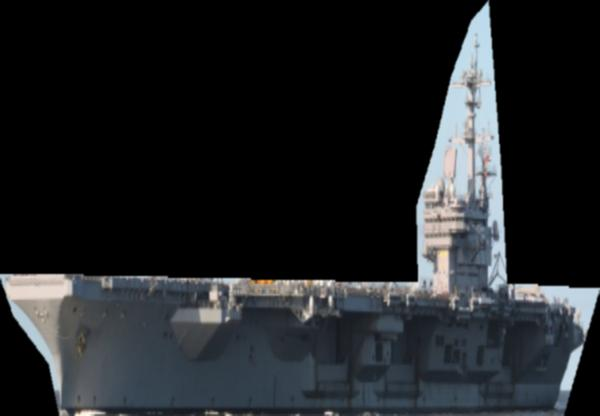Aircraft Carrier: (0, 0, 600, 416)
